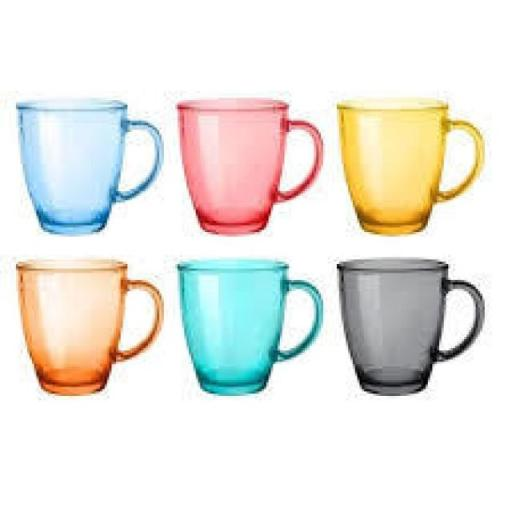glass: (10, 99, 158, 236), (16, 258, 162, 394), (178, 258, 324, 392), (178, 98, 324, 232), (341, 257, 482, 393), (340, 99, 481, 231)
